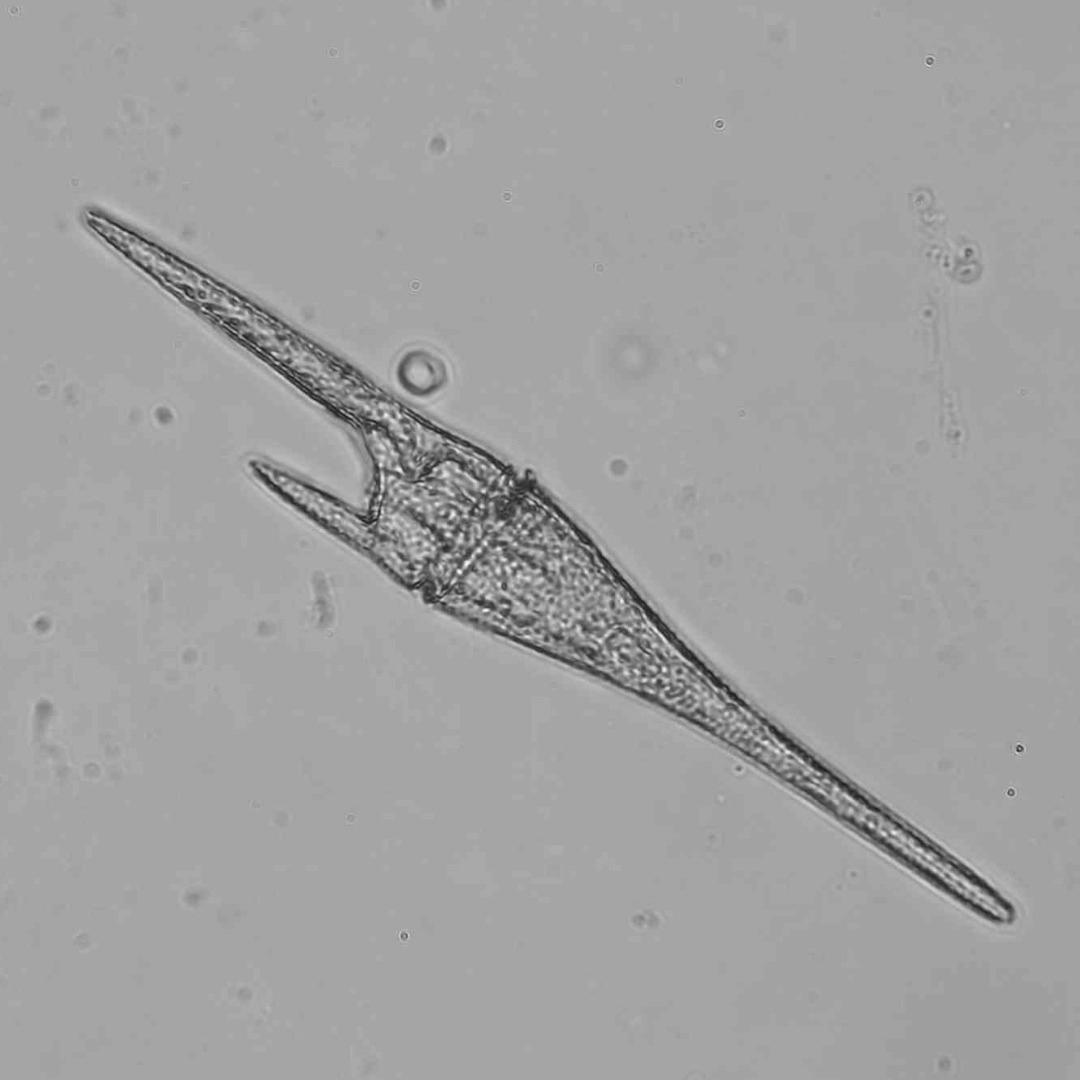ceratium_furca: (84, 211, 1014, 921)
